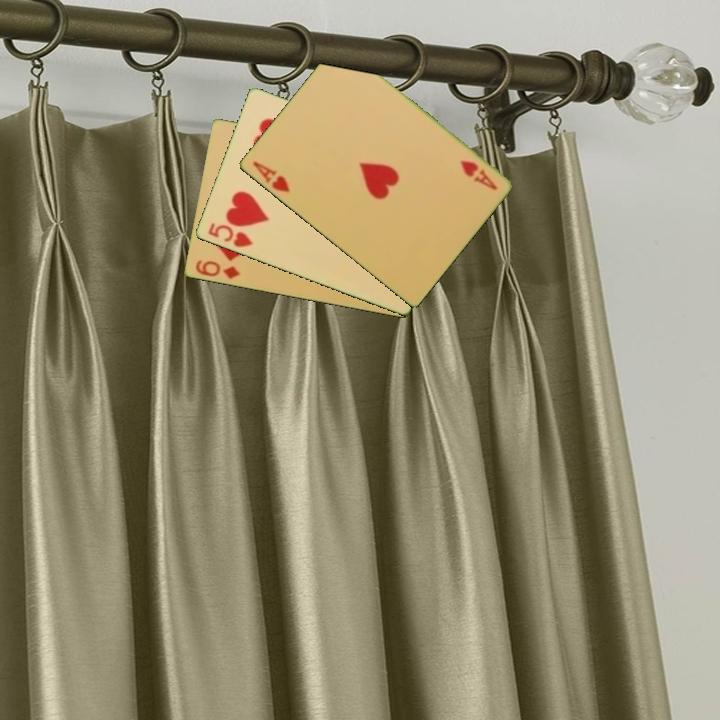5h: (204, 220, 255, 251)
6d: (192, 257, 242, 282)
Ah: (249, 158, 293, 195), (456, 157, 499, 193)
